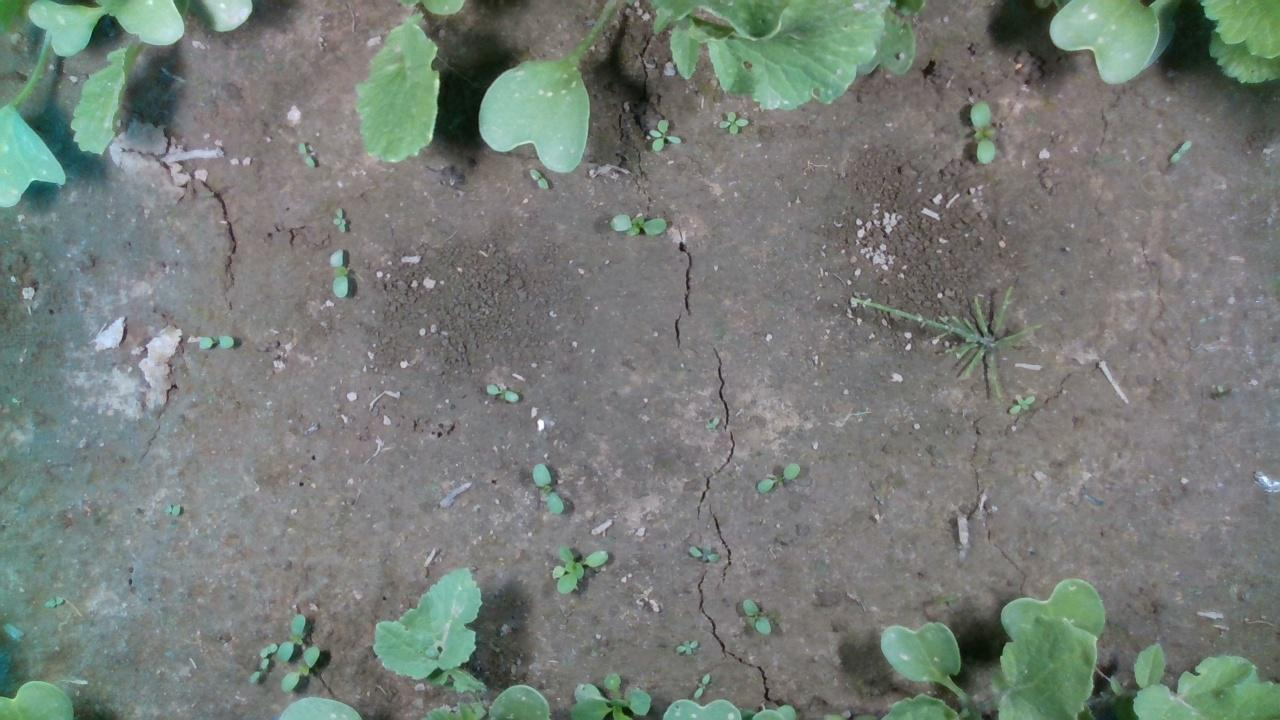weed: (530, 461, 563, 515), (968, 100, 994, 164), (609, 212, 666, 237), (756, 461, 799, 493), (740, 597, 772, 635), (646, 117, 680, 152), (328, 245, 349, 299), (716, 110, 748, 135), (193, 332, 235, 349), (484, 382, 519, 402), (1007, 391, 1036, 414), (686, 544, 720, 563), (247, 655, 269, 684), (295, 140, 315, 168), (691, 670, 710, 699), (527, 166, 548, 191), (330, 205, 347, 232), (674, 637, 698, 654)
